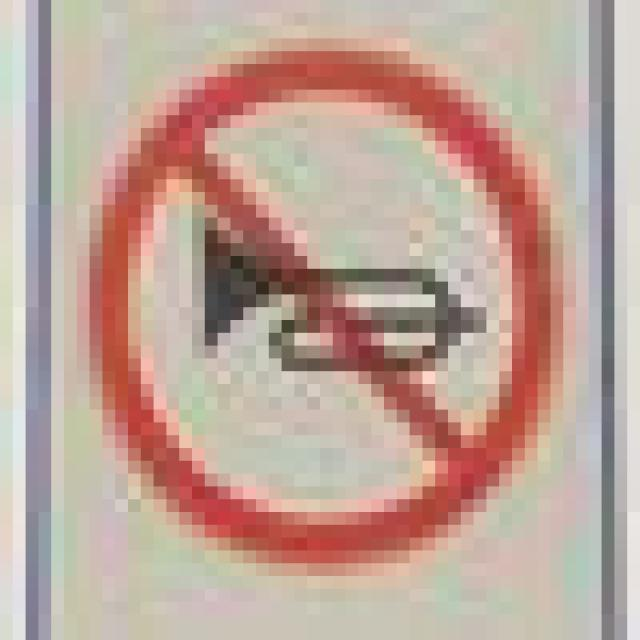horn prohibited: (82, 41, 576, 578)
